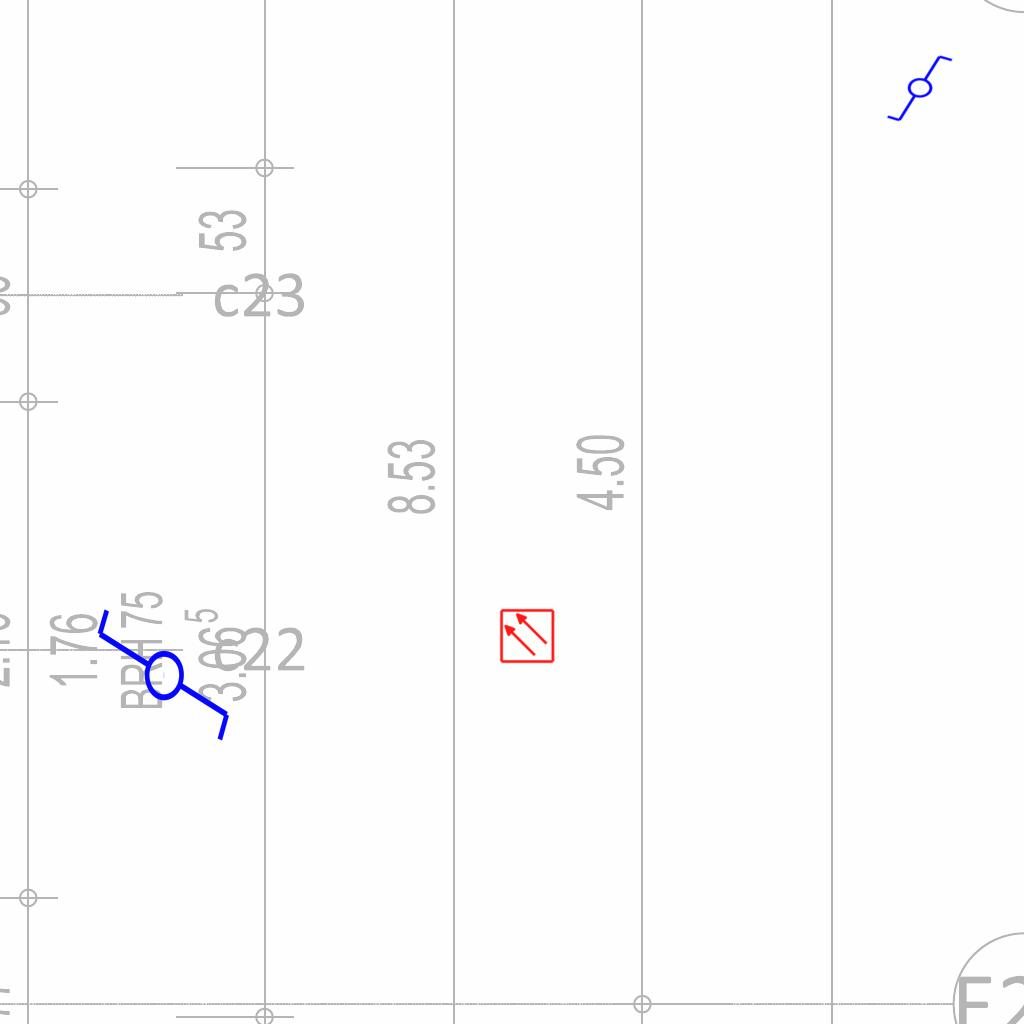RMO_Rauchmelder_optischer: (499, 608, 555, 664)
Wechselschalter: (90, 605, 234, 762), (885, 53, 963, 125)
